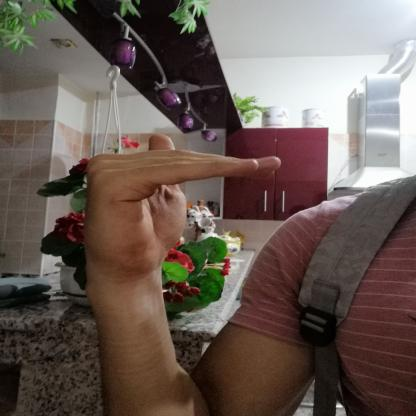KHAA: (60, 124, 297, 283)
